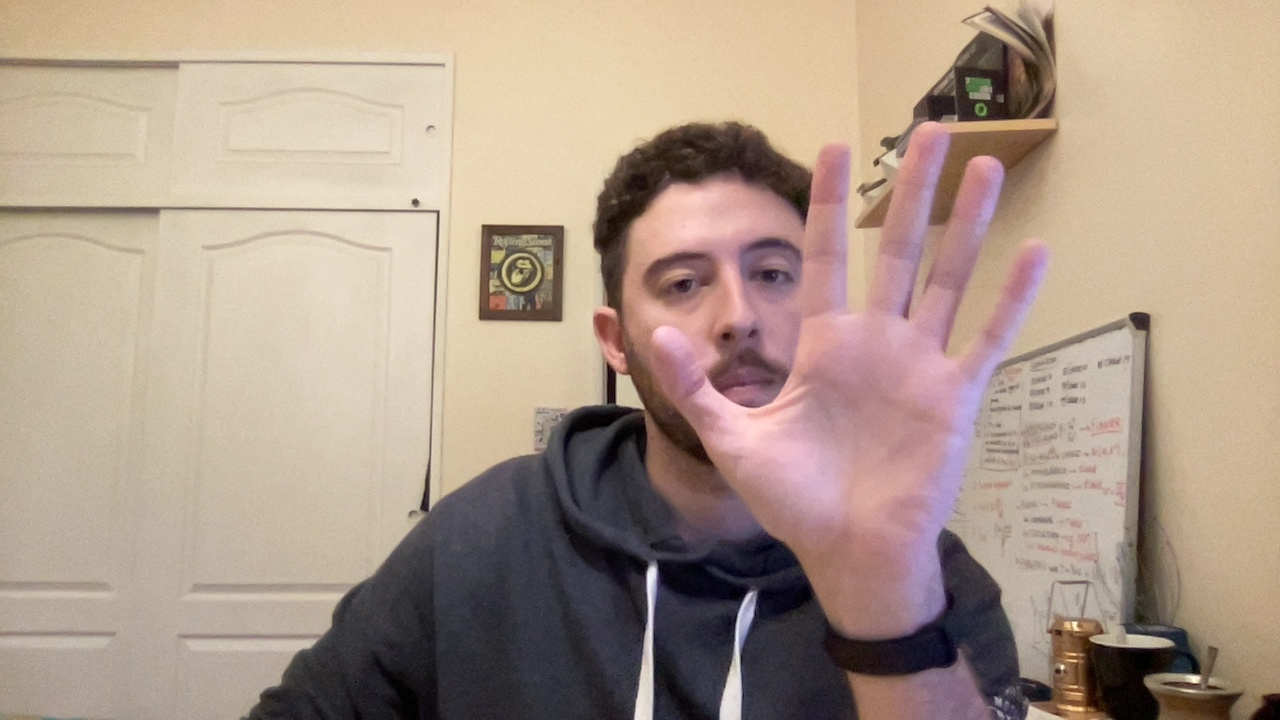abierto: (640, 110, 1058, 577)
